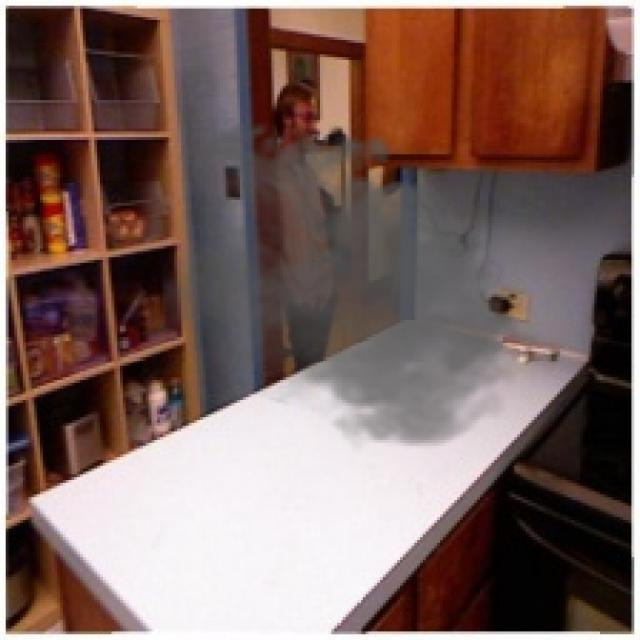smoke: (163, 112, 537, 454)
